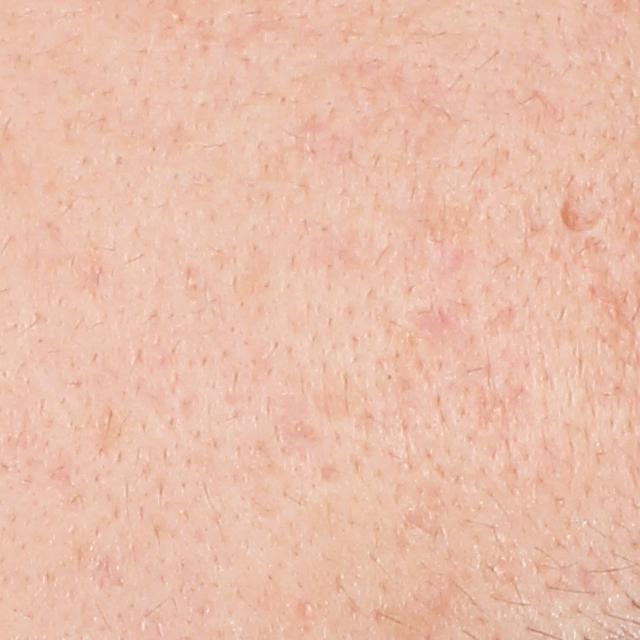atrophic_scar: (556, 179, 614, 239), (477, 298, 527, 340)
